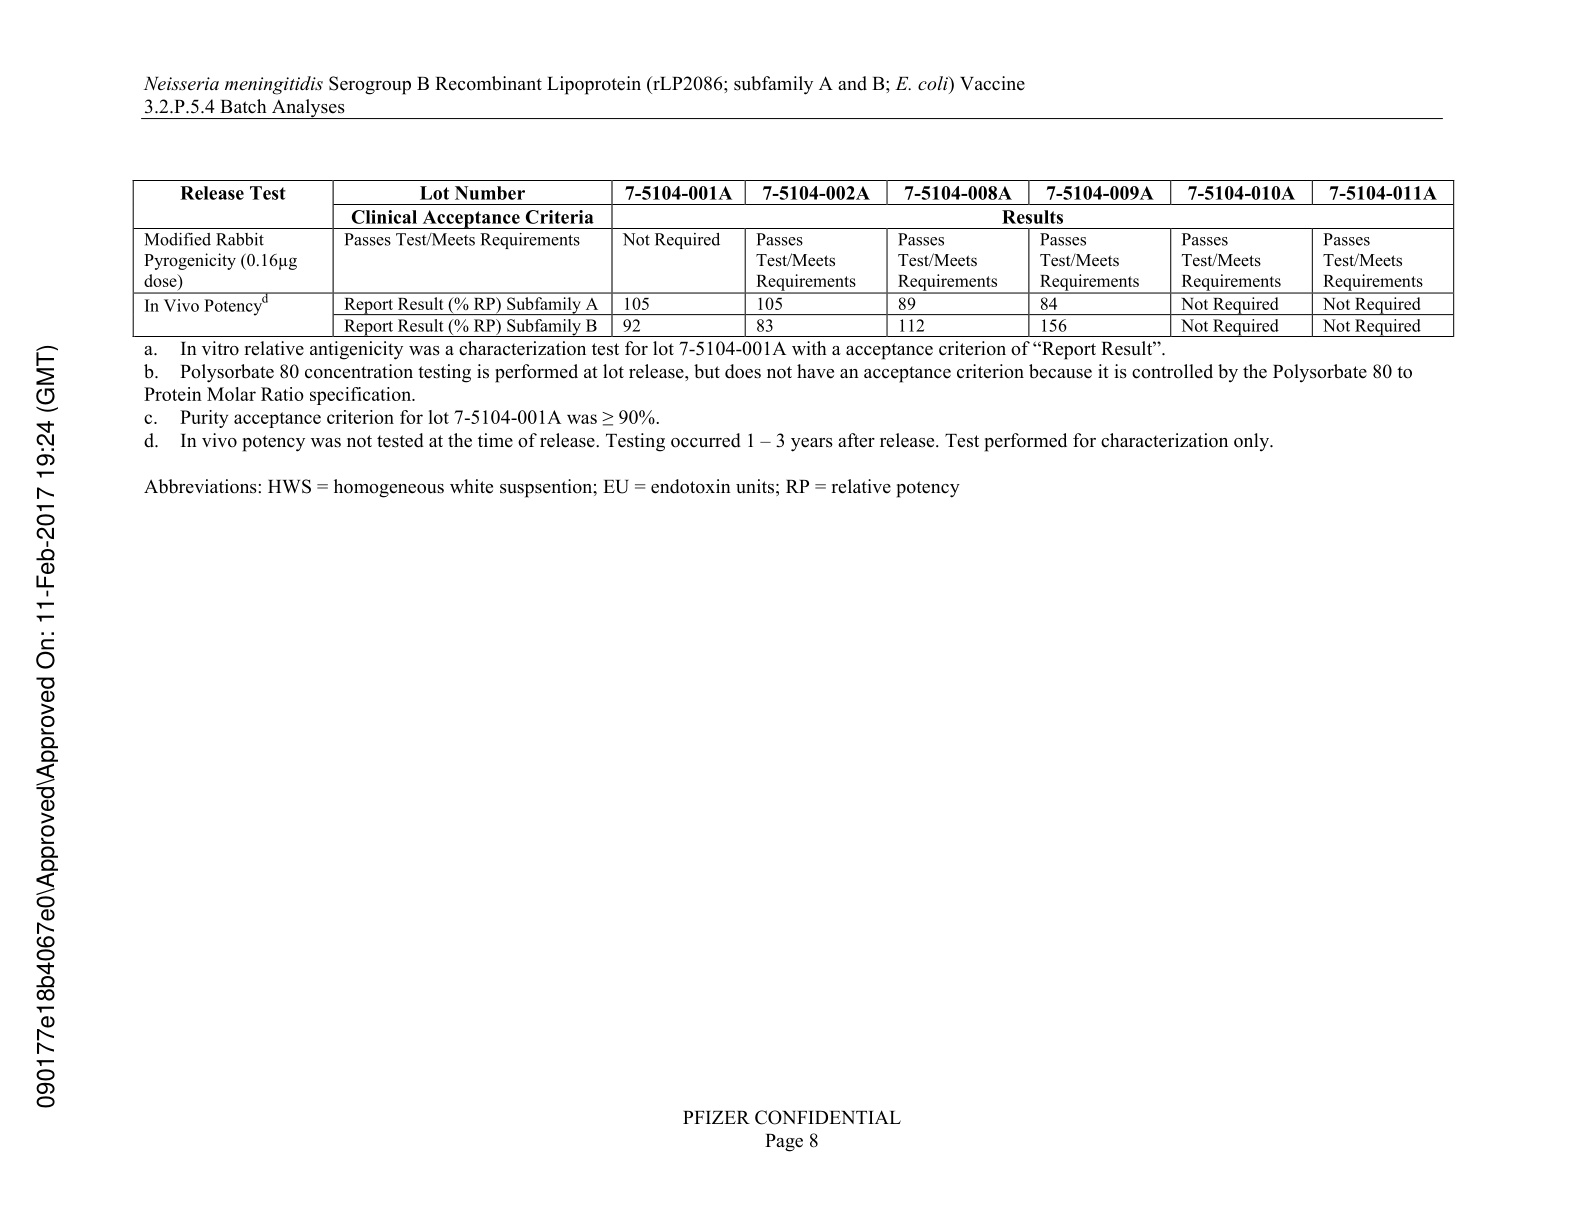merged_cells: (132, 177, 1454, 337)
